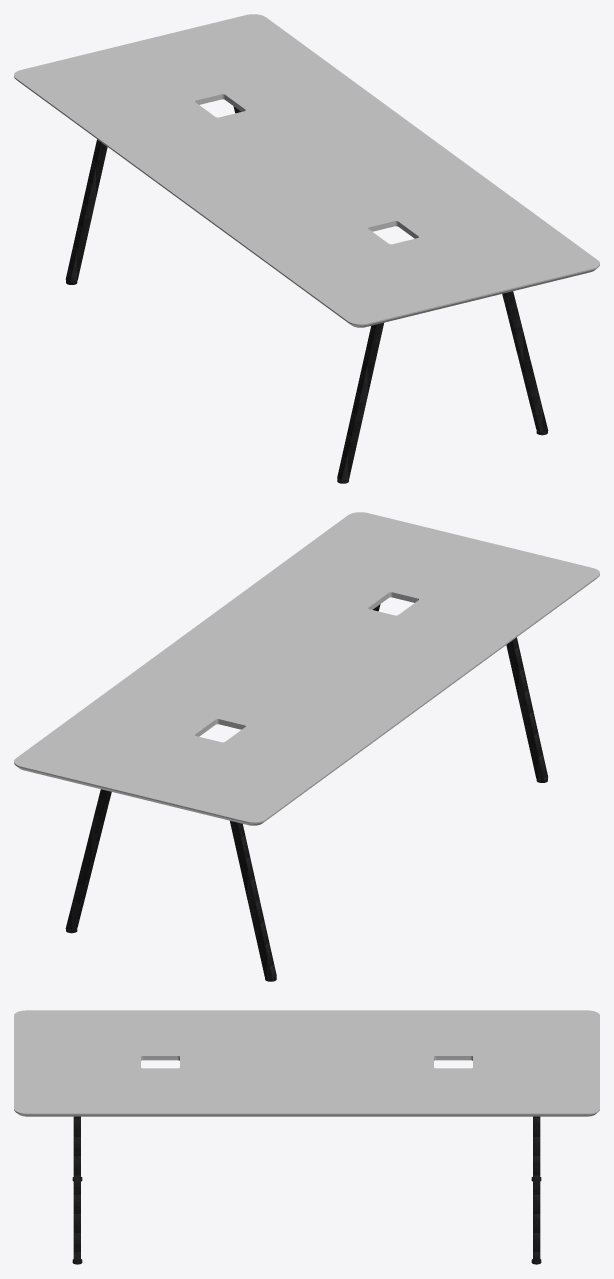
The model's file is main_desk.dae.
3 renders of one model, top to bottom at view 1: azimuth 30°, elevation 25°; view 2: azimuth 150°, elevation 25°; view 3: azimuth 270°, elevation 25°, orthographic. The views are drawn at different scales.
Parts seen in each view (by area): view 1: Top, Foot; view 2: Top, Foot; view 3: Top, Foot.
Part boxes in pixels (<box>): Top: <box>14,14,599,327</box>; Foot: <box>65,106,548,483</box>; Top: <box>14,512,599,825</box>; Foot: <box>65,604,548,981</box>; Top: <box>14,1010,599,1116</box>; Foot: <box>72,1116,541,1264</box>.
Bounding box in the file's own units: 1 × 2.4 × 0.72.
